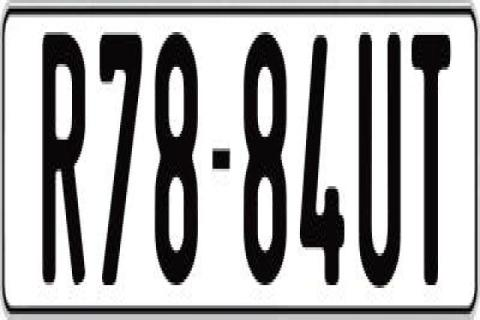0: (296, 29, 348, 297), (154, 27, 204, 297), (242, 24, 286, 282), (100, 29, 142, 279)
R: (40, 23, 84, 285)
T: (408, 35, 454, 285)
U: (360, 26, 404, 300)
